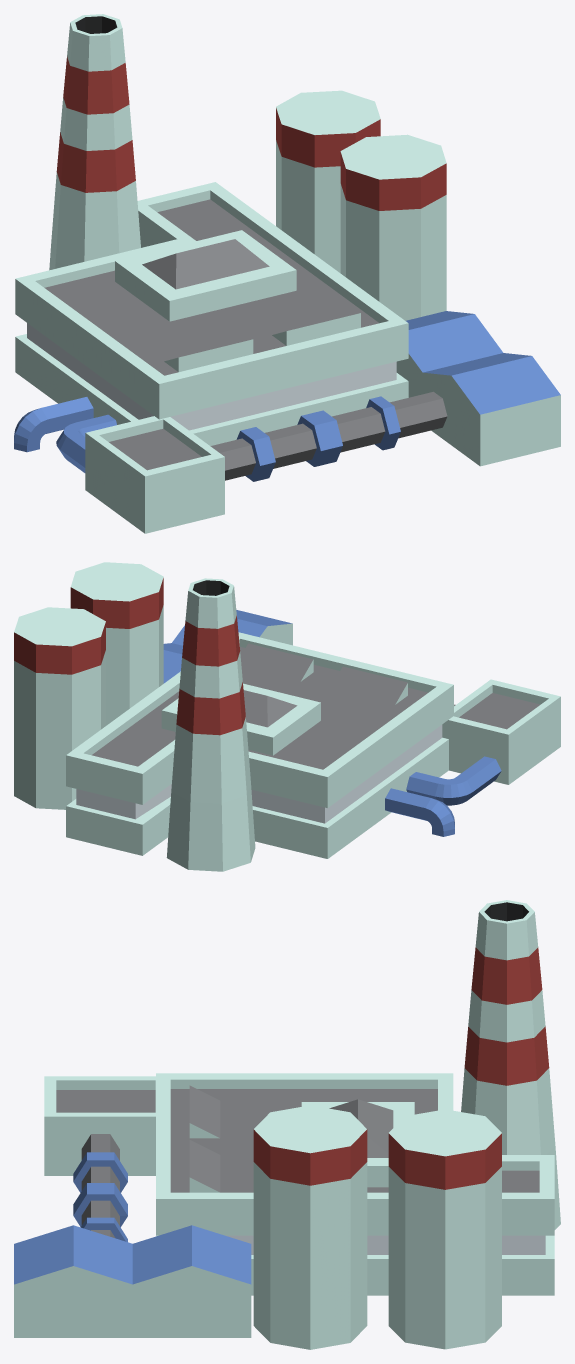
Rendered from Factory_0925.fbx.
The picture shows the model from 3 angles, top to bottom: view 1: azimuth 30°, elevation 25°; view 2: azimuth 150°, elevation 25°; view 3: azimuth 270°, elevation 25°; orthographic projection. The views are drawn at different scales.
Visible parts, largest first — view 1: Factory; view 2: Factory; view 3: Factory.
Part boxes in pixels (x1=…): Factory: x1=14, y1=14, x2=560, y2=533; Factory: x1=14, y1=562, x2=560, y2=871; Factory: x1=14, y1=900, x2=560, y2=1349.
Bounding box in the file's own units: 86.21 × 91.93 × 59.08.
